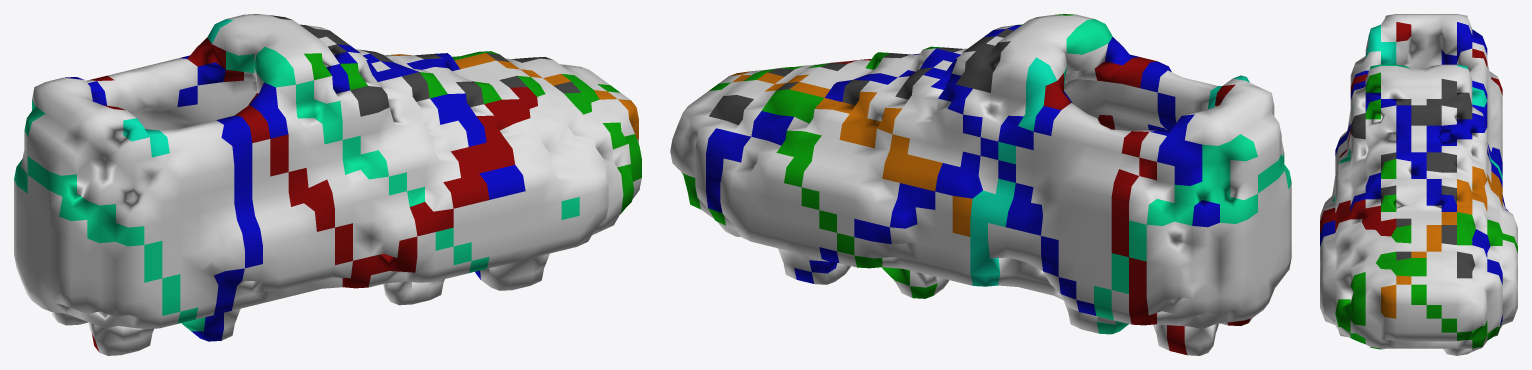
The picture shows the model from 3 angles, left to right: view 1: azimuth 30°, elevation 25°; view 2: azimuth 150°, elevation 25°; view 3: azimuth 270°, elevation 25°; orthographic projection. The views are drawn at different scales.
Size of the model in its own units: 1.6 by 0.7 by 0.65.
